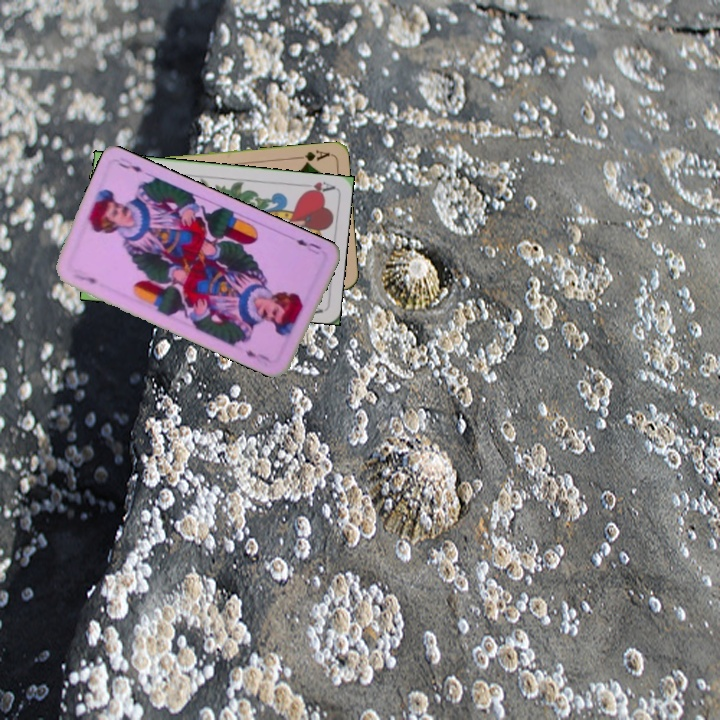EU: (292, 235, 324, 252), (68, 270, 99, 287)
GA: (292, 146, 332, 167)
HA: (298, 178, 336, 197)
